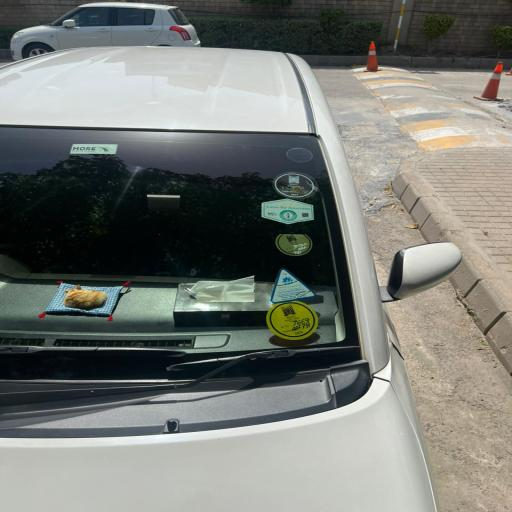bnu_sticker: (263, 301, 321, 341)
